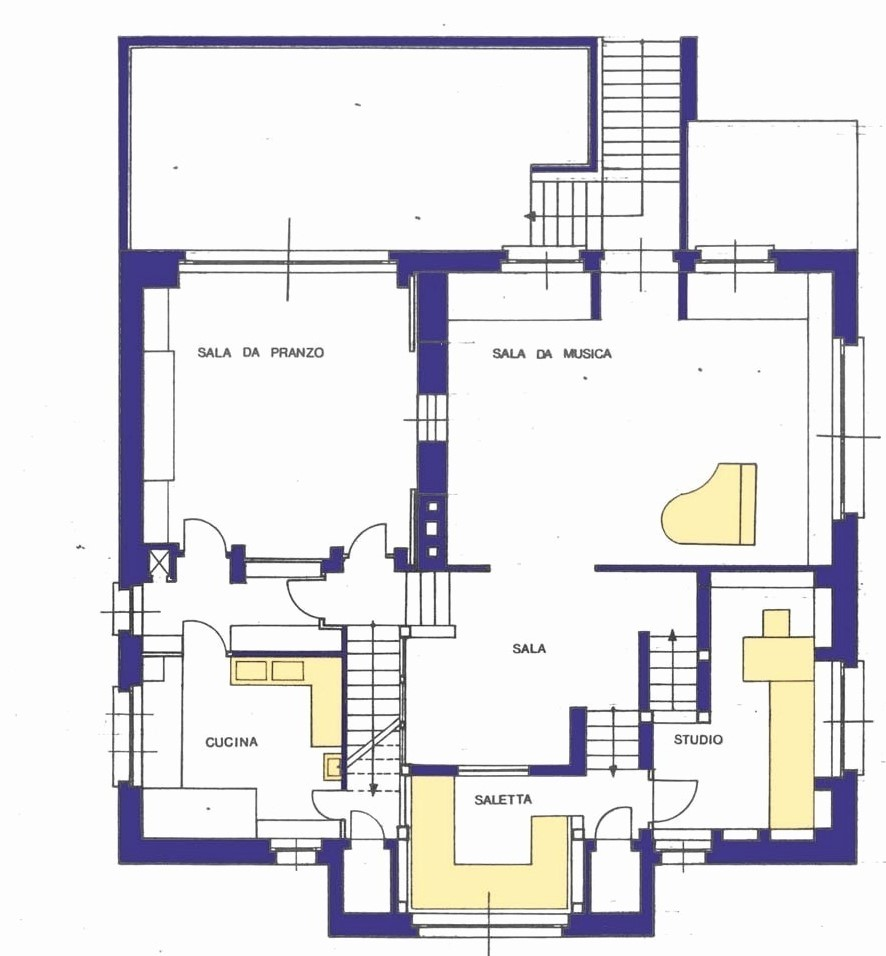room: (419, 246, 861, 576), (115, 250, 448, 575), (172, 622, 354, 794)
